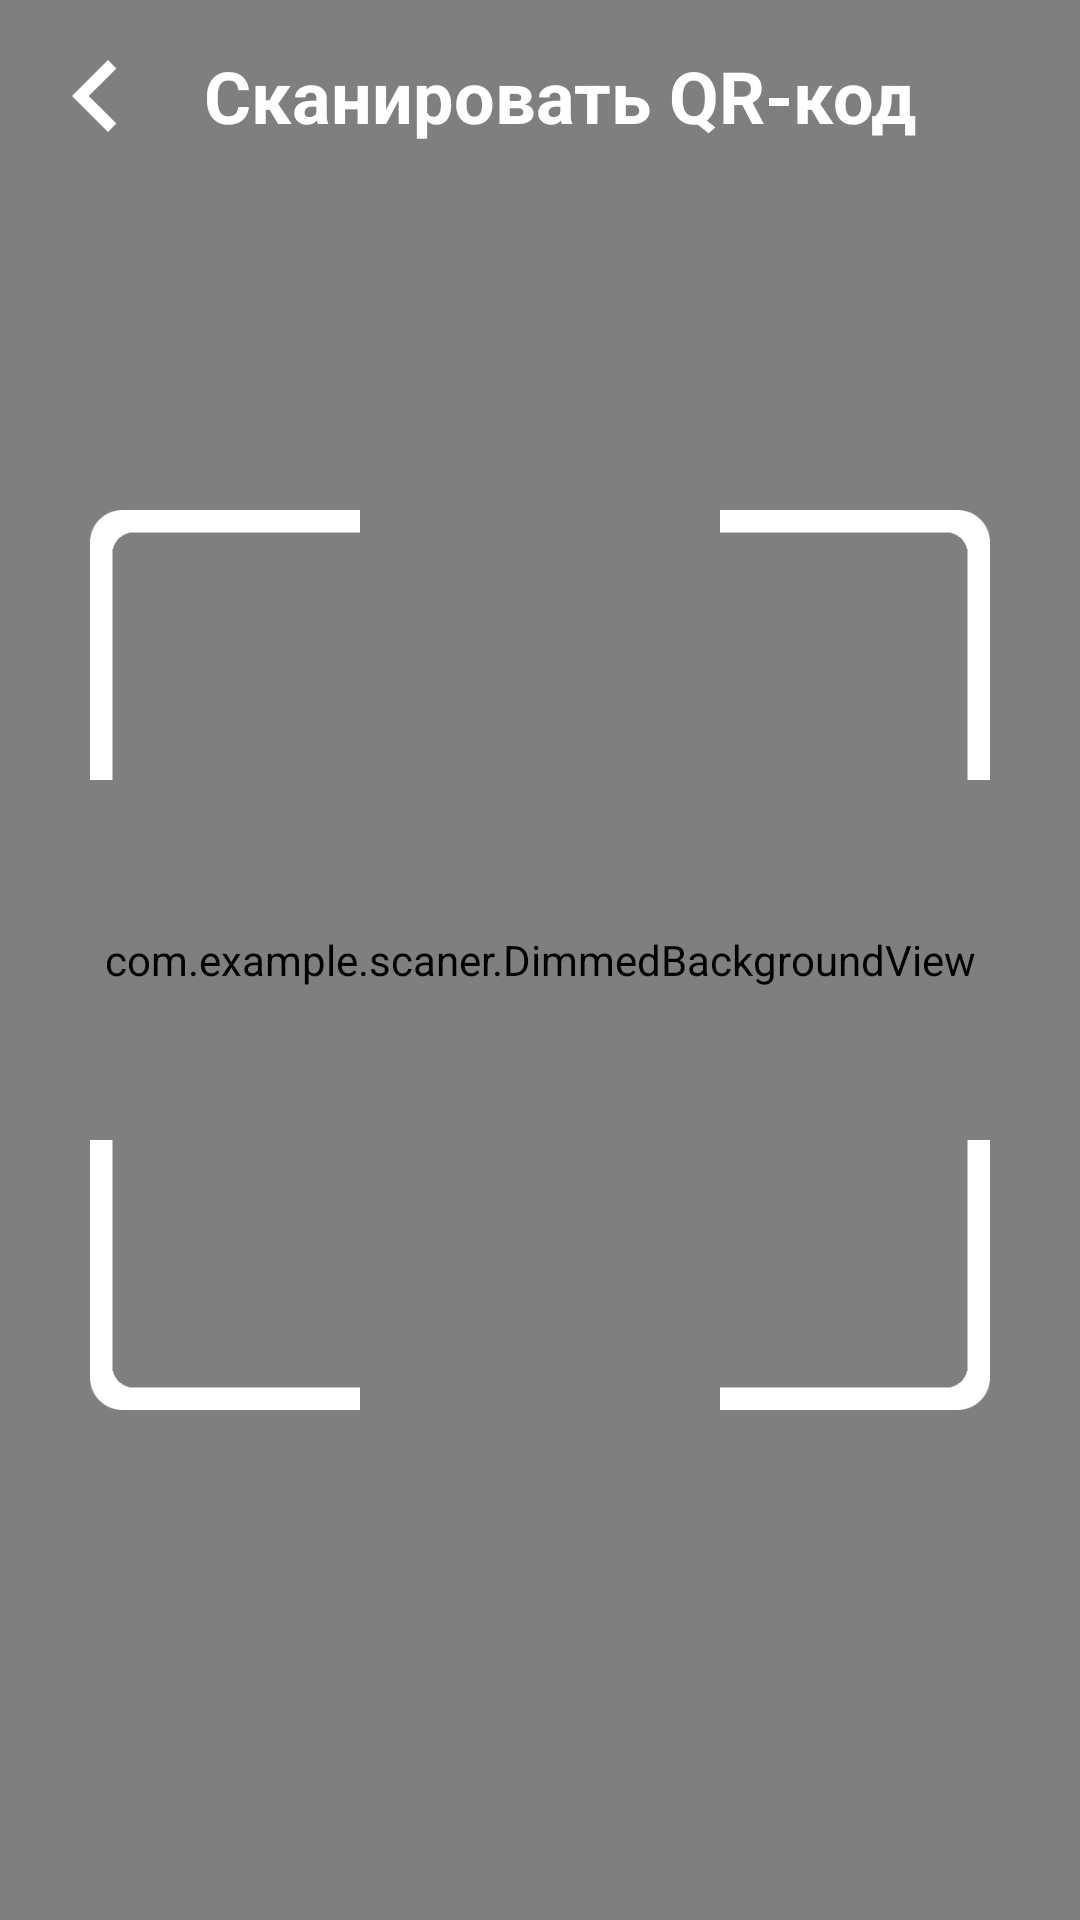

Icons on this 1080 × 1920 Android screen, each with its box as (x1, y1, x2, y2):
Back button: (72, 60, 116, 132)
